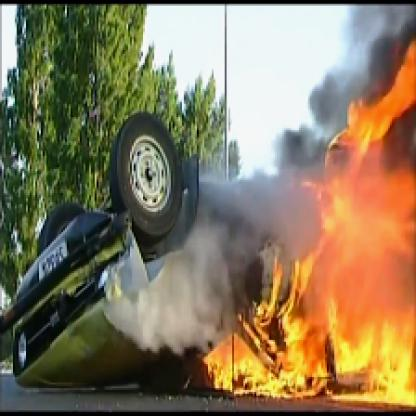Fire: (190, 48, 414, 410)
